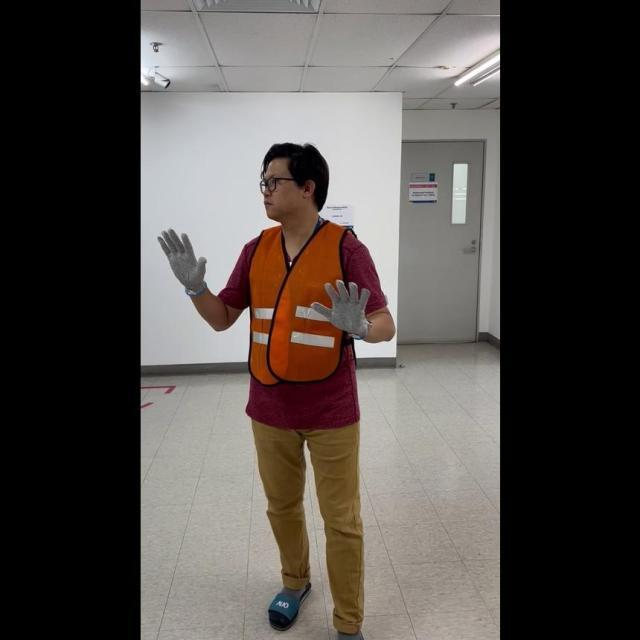gloved_hand: (310, 273, 372, 339), (156, 223, 209, 295)
